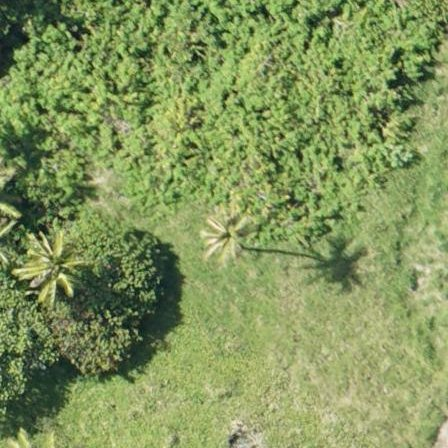palm_tree: (15, 233, 82, 300), (200, 211, 255, 265)
